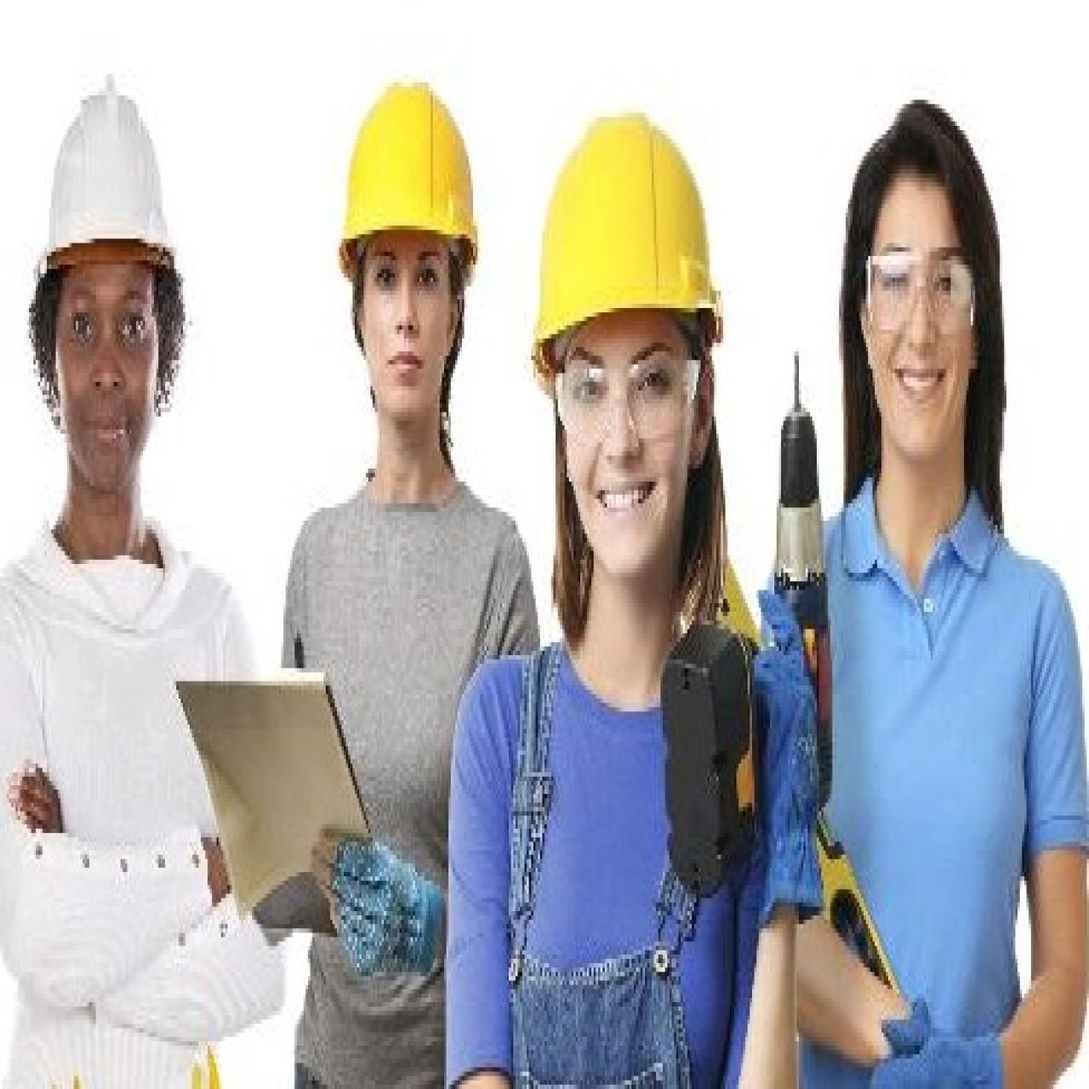NO_Safety_Vest: (814, 516, 1045, 1085), (494, 624, 771, 1089), (296, 494, 506, 1060), (14, 521, 218, 1089)
Person: (460, 55, 818, 1089), (0, 52, 293, 1080), (803, 66, 1085, 1089), (282, 38, 545, 1089)
